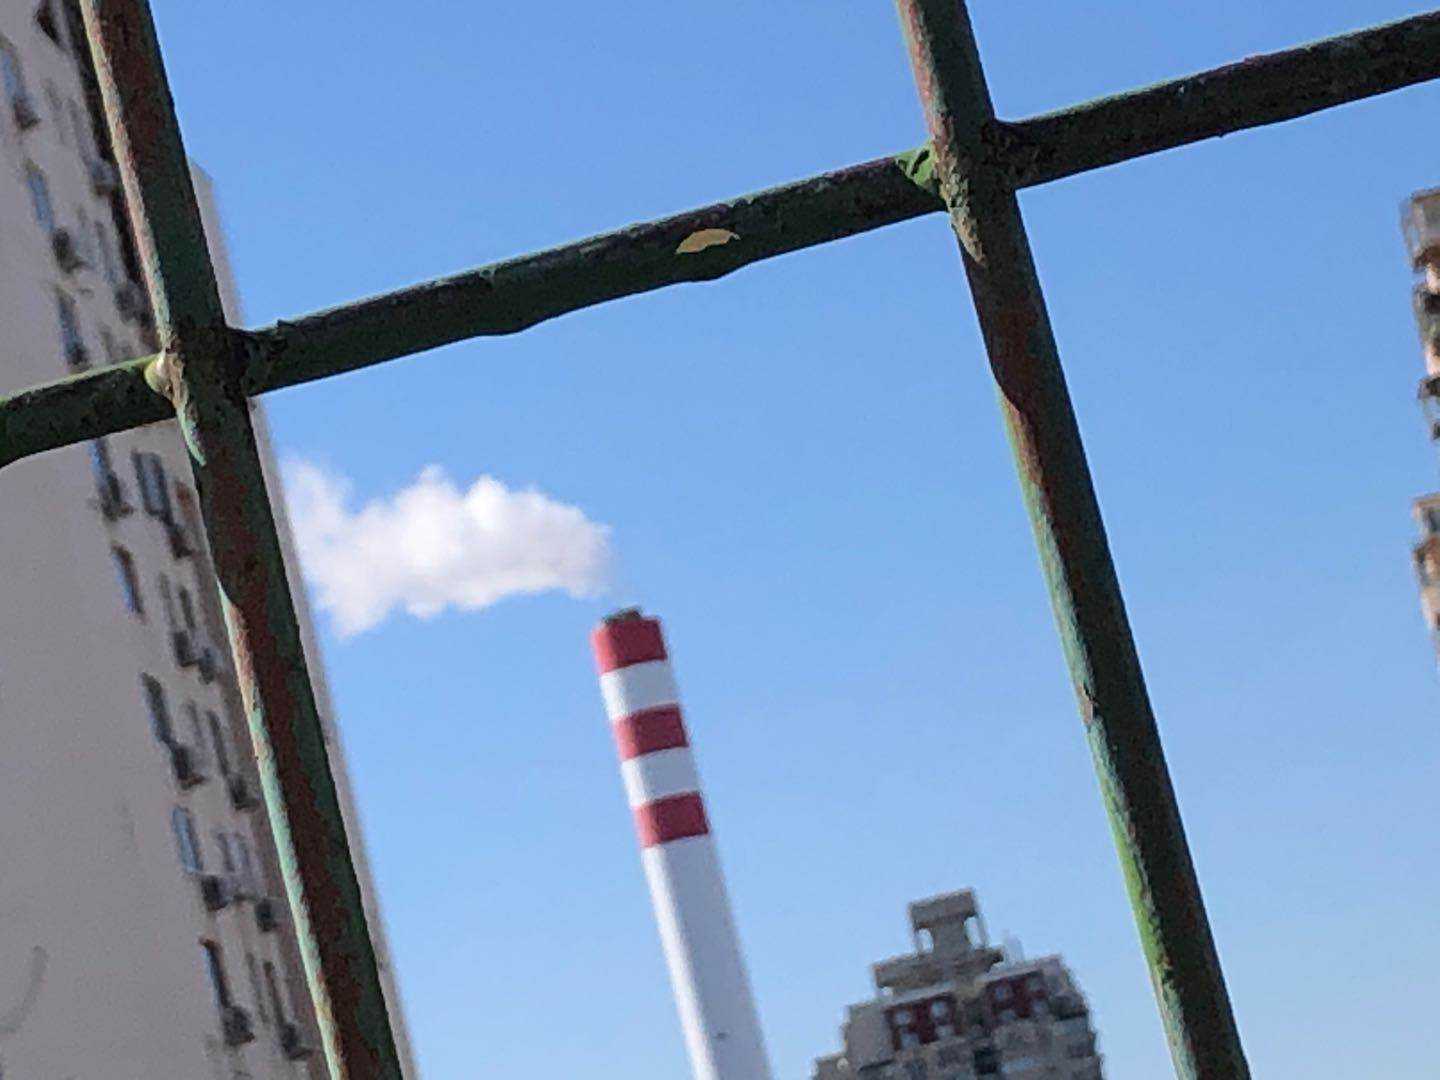yanwu: (262, 441, 609, 616)
